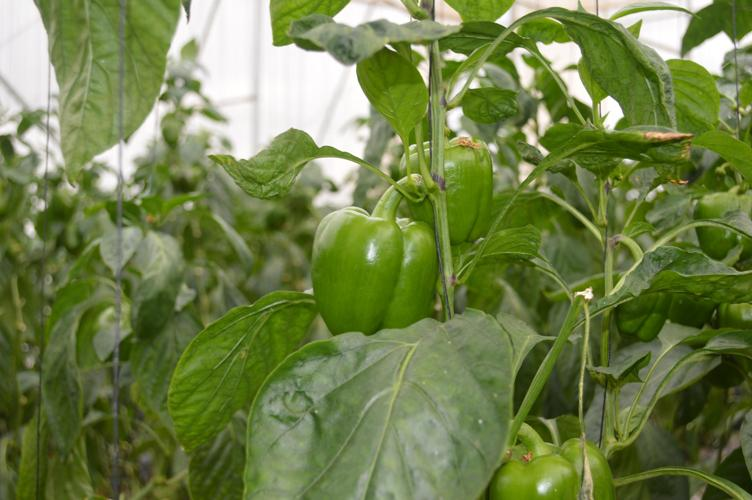BellPepper: (298, 199, 438, 341), (492, 421, 630, 500), (396, 138, 490, 244)
